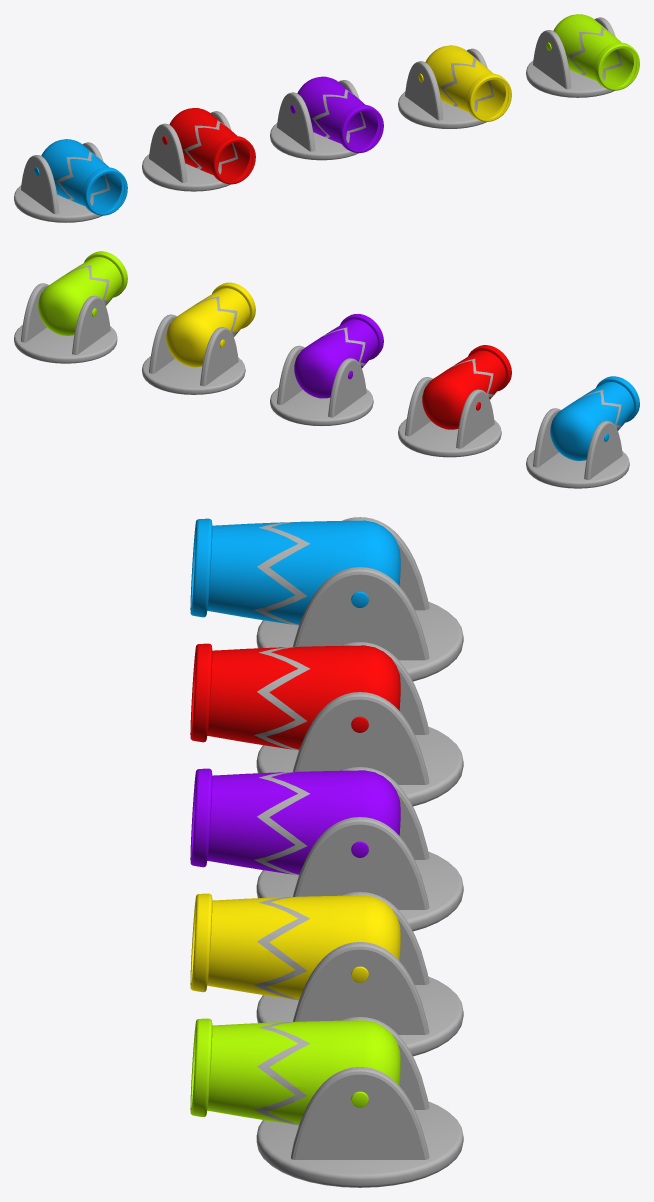
File: cannonAIO.fbx
3 views of the same model, one above another, from view 1: azimuth 30°, elevation 25°; view 2: azimuth 150°, elevation 25°; view 3: azimuth 270°, elevation 25° (orthographic). The views are drawn at different scales.
Visible parts, largest first — view 1: cannon_Violet, cannon_Blue, cannon_Green, cannon_Yellow, cannon_RED; view 2: cannon_Blue, cannon_Green, cannon_RED, cannon_Yellow, cannon_Violet; view 3: cannon_Green, cannon_Blue, cannon_RED, cannon_Violet, cannon_Yellow.
Boxes of the visible parts, <box> form: cannon_Violet: <box>270,76,383,160</box>; cannon_Blue: <box>14,139,127,222</box>; cannon_Green: <box>526,14,639,97</box>; cannon_Yellow: <box>398,45,511,128</box>; cannon_RED: <box>142,108,255,191</box>; cannon_Blue: <box>526,376,639,488</box>; cannon_Green: <box>14,251,127,363</box>; cannon_RED: <box>398,345,511,457</box>; cannon_Yellow: <box>142,282,255,394</box>; cannon_Violet: <box>270,314,383,426</box>; cannon_Green: <box>190,1017,463,1187</box>; cannon_Blue: <box>190,517,463,681</box>; cannon_RED: <box>190,642,463,806</box>; cannon_Violet: <box>190,767,463,931</box>; cannon_Yellow: <box>190,892,463,1056</box>.
Bounding box in the file's own units: 940 × 91.52 × 185.
